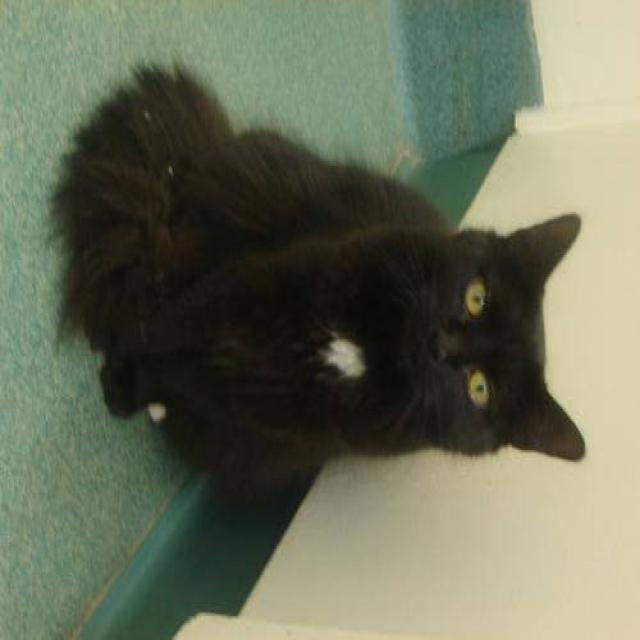cat: (48, 58, 586, 508)
